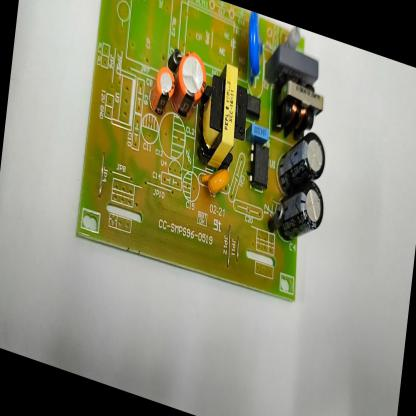Cap1: (173, 45, 209, 128)
Cap2: (150, 61, 176, 121)
Cap3: (277, 120, 329, 202)
Cap4: (274, 171, 328, 252)
MOSFET: (244, 140, 274, 198)
Mov: (241, 10, 272, 94)
Resistor: (284, 24, 306, 53)
Transformer: (199, 55, 245, 178), (272, 73, 328, 143)
